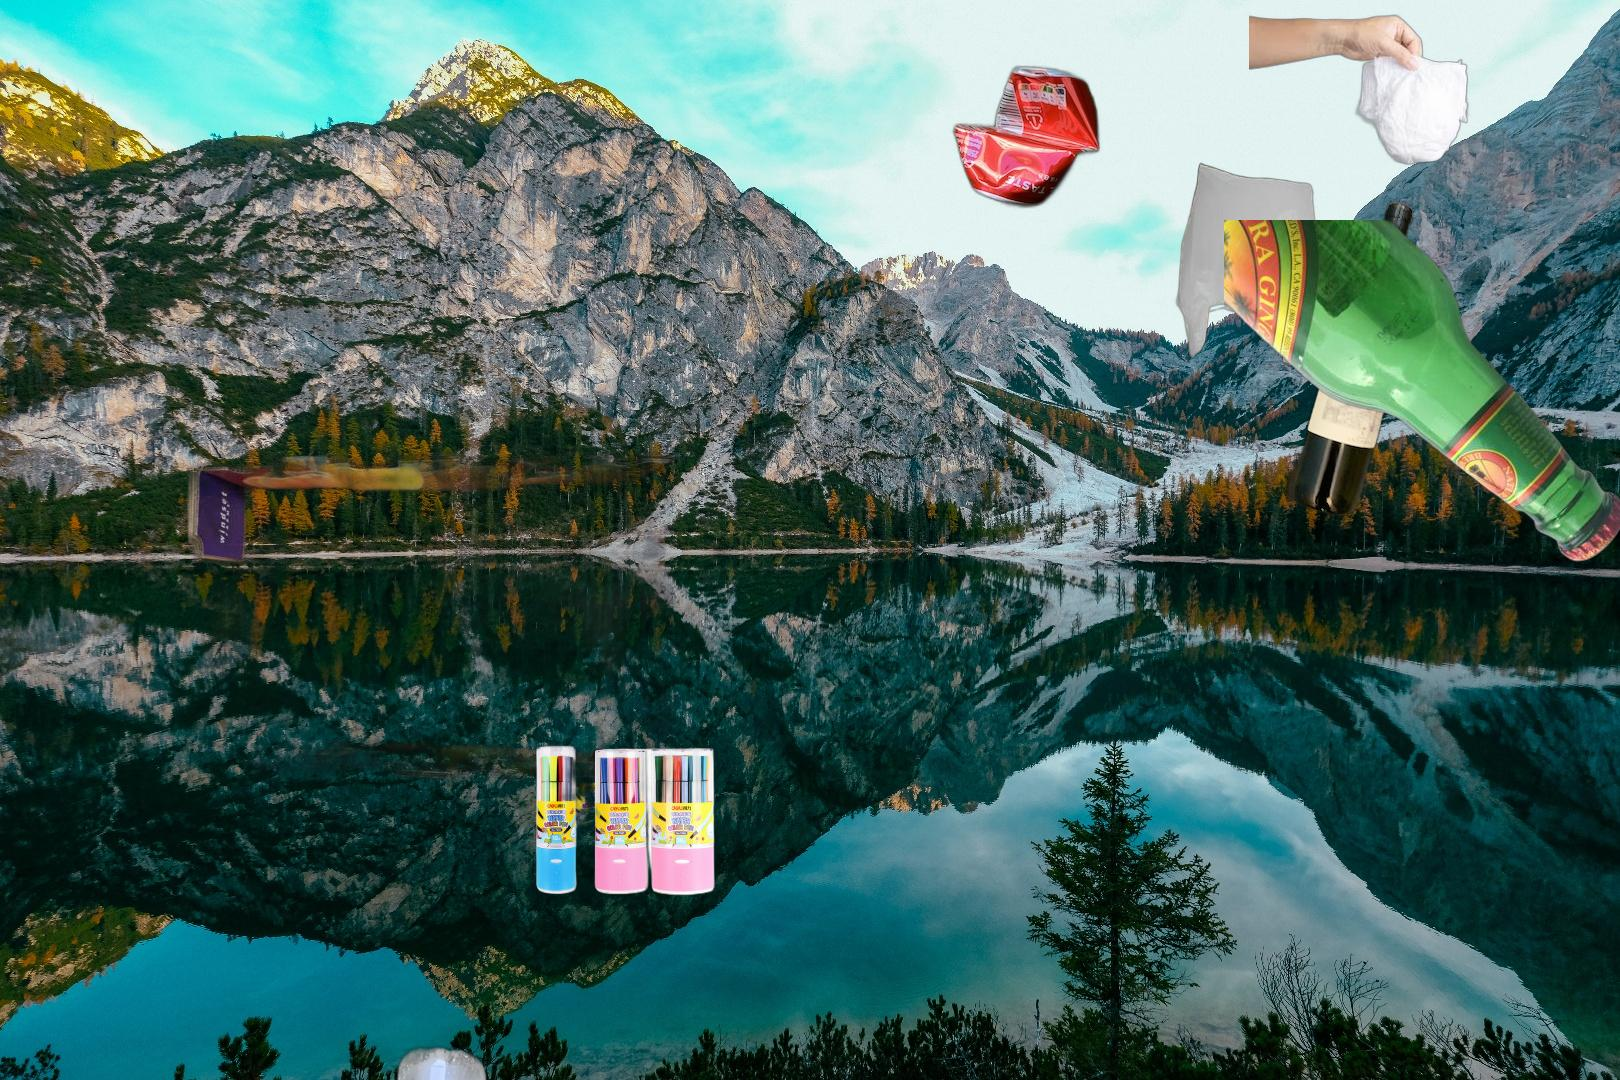glass: (1223, 221, 1620, 565), (1282, 195, 1417, 522)
metal-cans: (949, 60, 1104, 212)
penholder: (533, 736, 723, 898)
plastic-bag: (1173, 162, 1320, 369)
plastic-bottles: (385, 1041, 491, 1080)
trash: (1249, 12, 1471, 168)
trashbox-cardboard: (180, 433, 692, 817)
